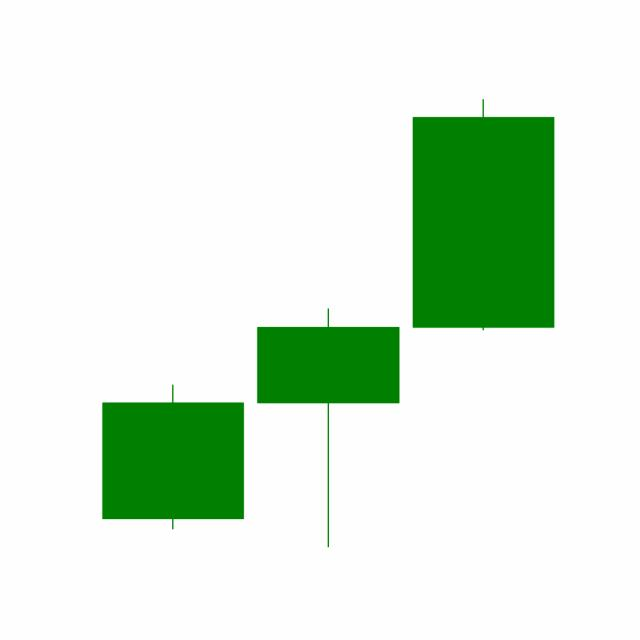Hanging Man: (249, 306, 406, 550)
